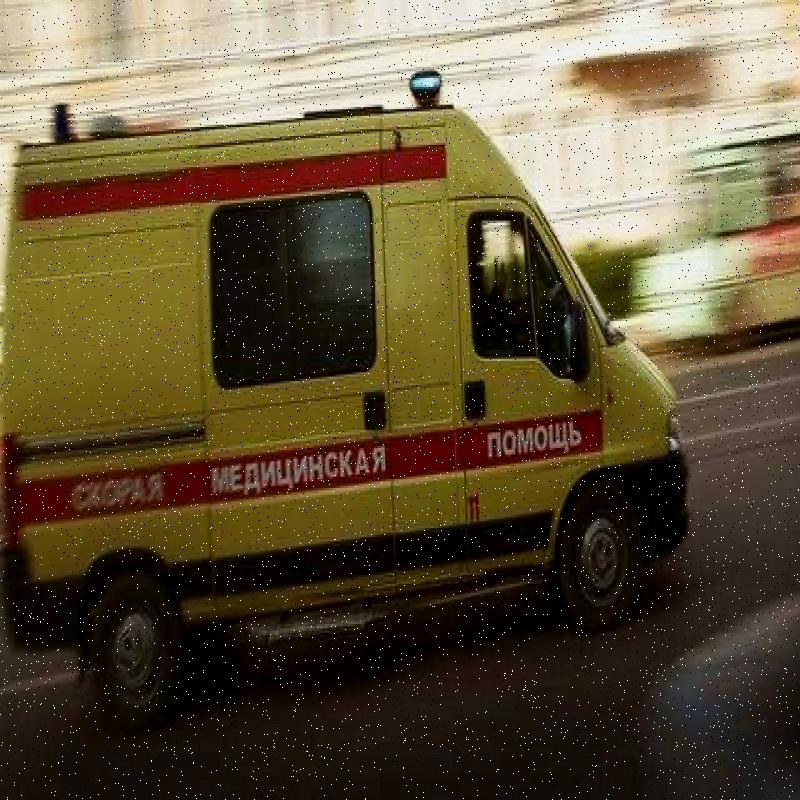AmbulanceSiren: (408, 57, 450, 127)
